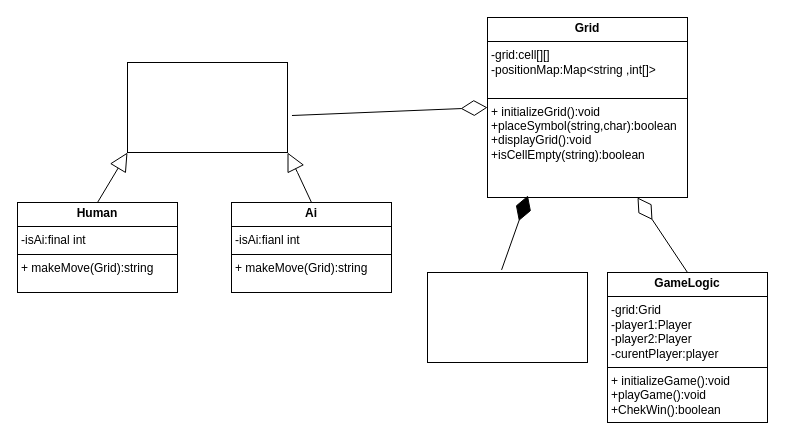
The diagram is 785 pixels wide and 440 high, and some of its shapes have lost their labels. Here are the shapes that lost their labels. From the top down, the box of each, then its label:
(126, 62, 288, 152): Player -symbol :char - isAi:final int + makeMove(Grid): string
(426, 272, 588, 362): Cell +symbol:char + getSymbol():char +setSymbol(char):void
